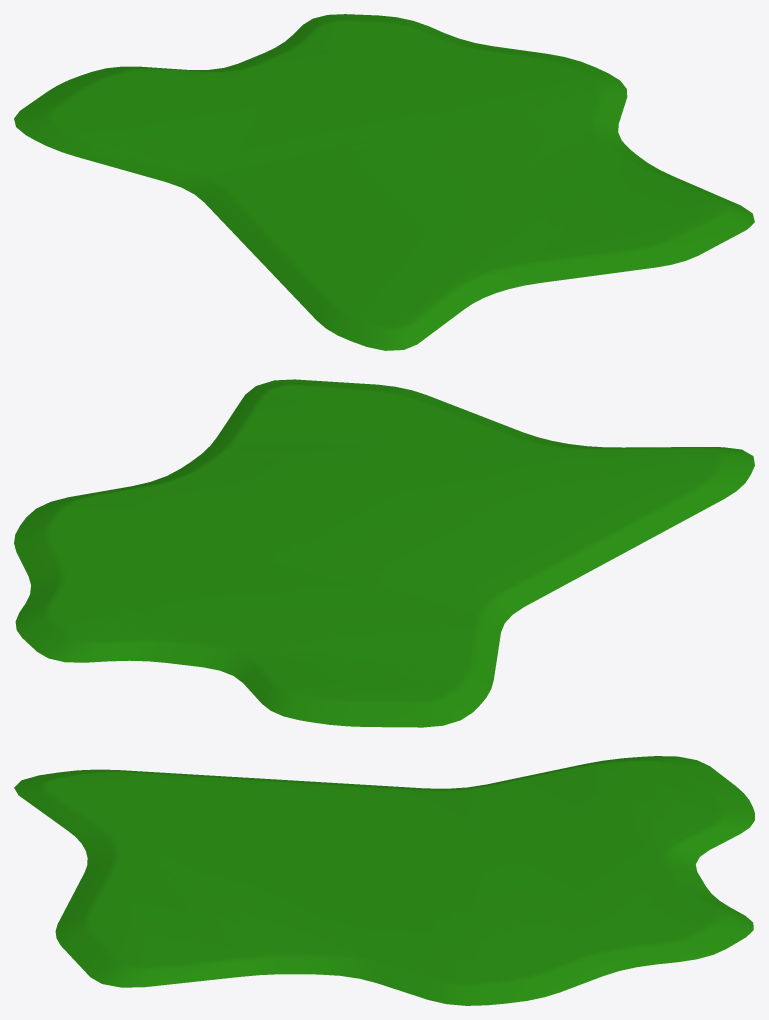
File: GroundPadding03_1.fbx
3 views of the same model, one above another, from view 1: azimuth 30°, elevation 25°; view 2: azimuth 150°, elevation 25°; view 3: azimuth 270°, elevation 25° (orthographic). The views are drawn at different scales.
Visible parts, largest first — view 1: LOD0; view 2: LOD0; view 3: LOD0.
Part boxes in pixels (bbox=[...]): LOD0: bbox=[14, 14, 754, 350]; LOD0: bbox=[14, 379, 754, 727]; LOD0: bbox=[14, 756, 754, 1005].
Size of what is drawn, in the model's own units: 1323 by 1658 by 20.75.
